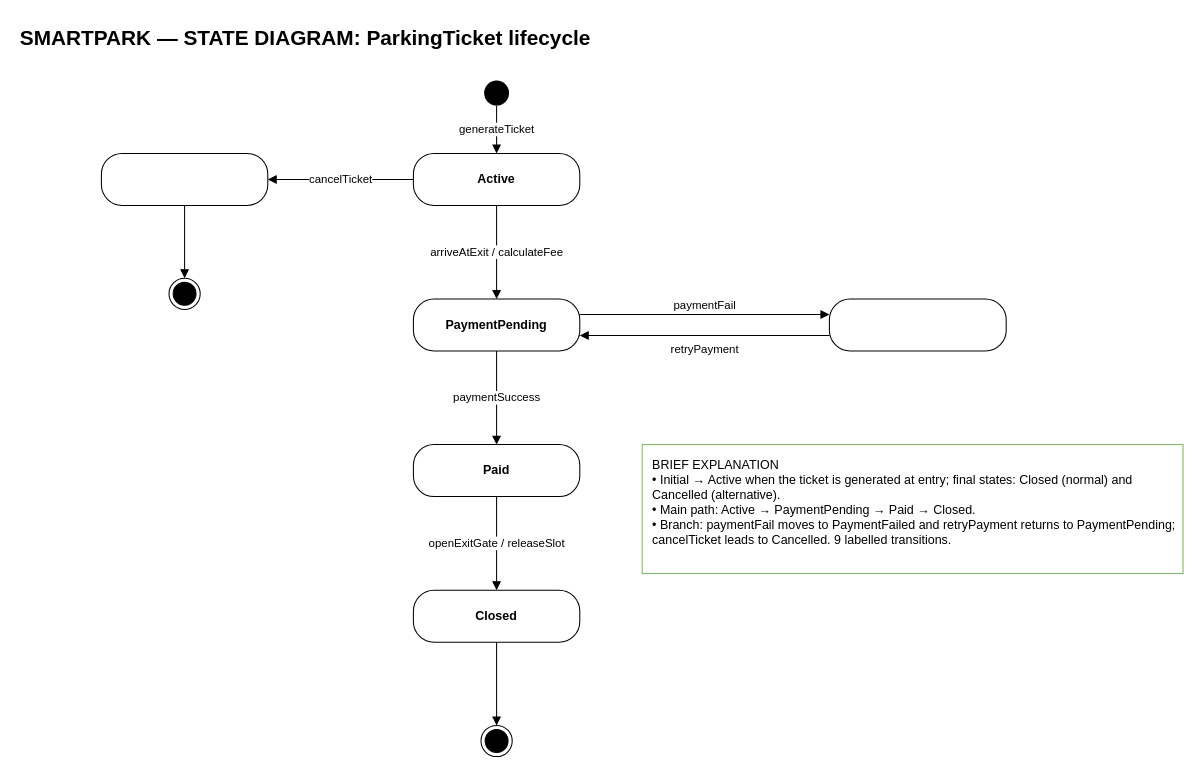
Some shapes in this 1201 by 775 pixel diagram are drawn without their labels. The shapes that lost their labels are listed below. From the top down, each one's box as (x1, y1, x2, y2) in pixels, then its label:
(100, 152, 268, 205): Cancelled
(828, 298, 1006, 351): PaymentFailed
